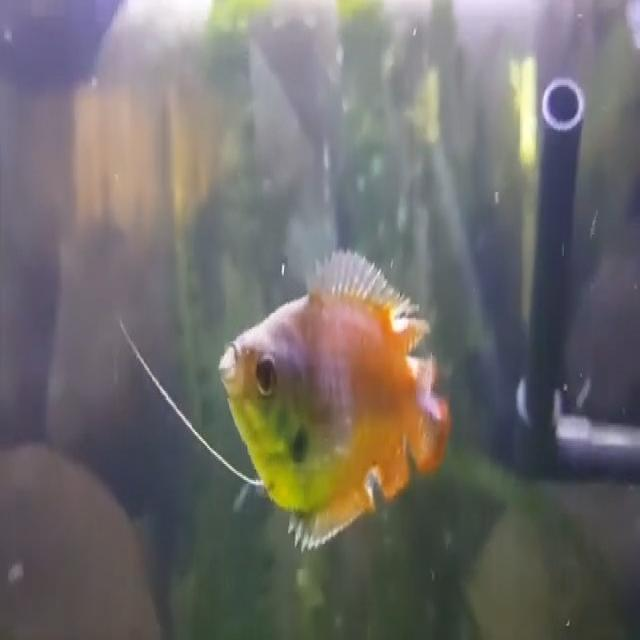fish: (218, 247, 456, 556)
